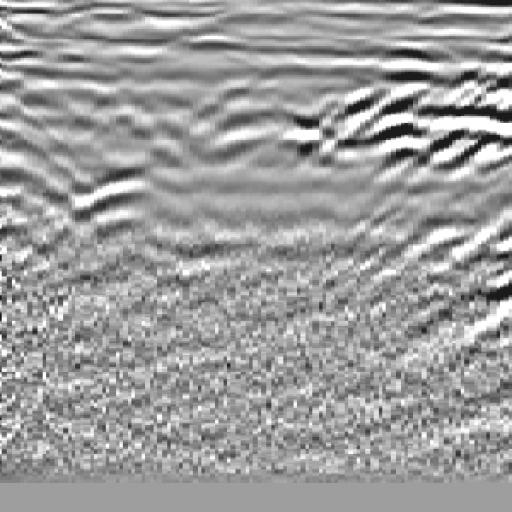metalic: (60, 158, 202, 256)
nonmetalic: (355, 42, 512, 283)
